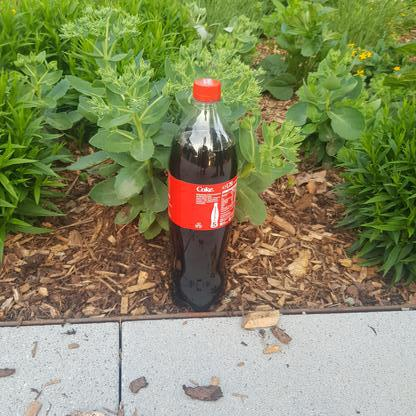coca-cola: (165, 77, 239, 312)
